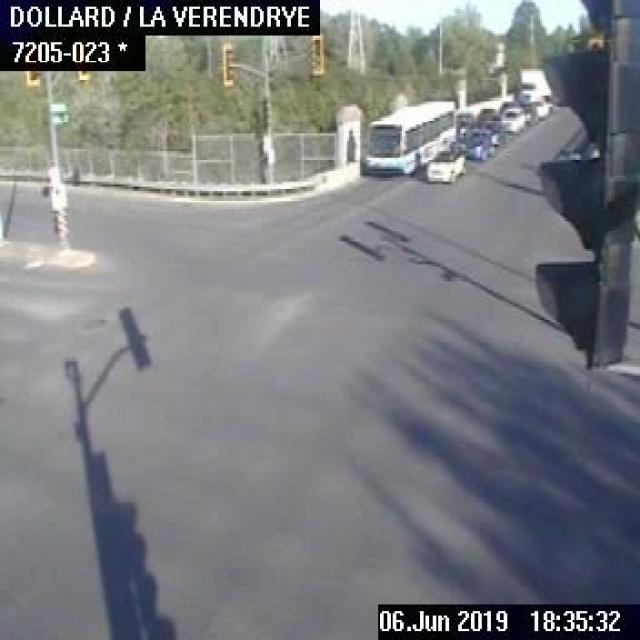bus: (358, 97, 458, 176)
vehicle: (422, 147, 468, 180), (515, 69, 553, 101), (463, 131, 493, 161), (500, 104, 528, 135), (472, 102, 498, 132), (454, 110, 472, 137)
